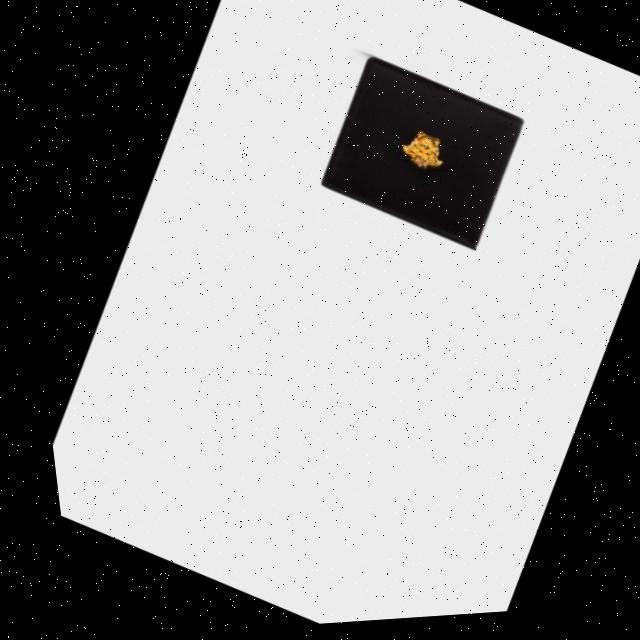cuzdan: (287, 39, 542, 274)
